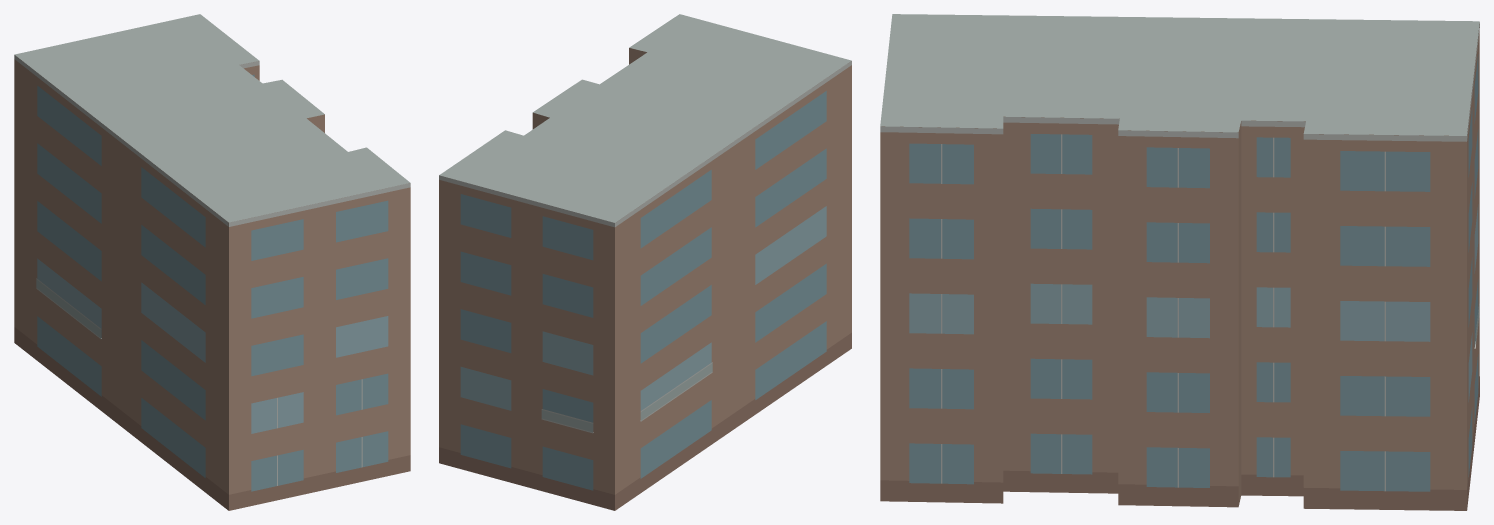
File: survey-upis-32995718.glb
3 renders of one model, left to right at view 1: azimuth 30°, elevation 25°; view 2: azimuth 150°, elevation 25°; view 3: azimuth 270°, elevation 25°, orthographic. The views are drawn at different scales.
Parts seen in each view (by area): view 1: survey-upis-32995718.tmp; view 2: survey-upis-32995718.tmp; view 3: survey-upis-32995718.tmp.
Part boxes in pixels (bbox=[...]): survey-upis-32995718.tmp: bbox=[14, 14, 410, 510]; survey-upis-32995718.tmp: bbox=[439, 14, 851, 510]; survey-upis-32995718.tmp: bbox=[880, 14, 1479, 510].
Size of the model in its own units: 11.04 by 15.8 by 22.92.
